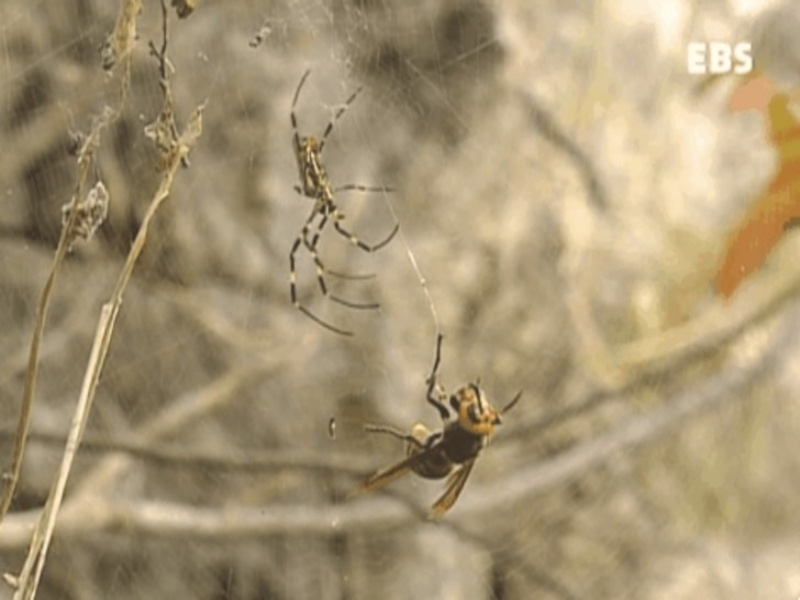asian_giant_hornet: (367, 330, 518, 510)
